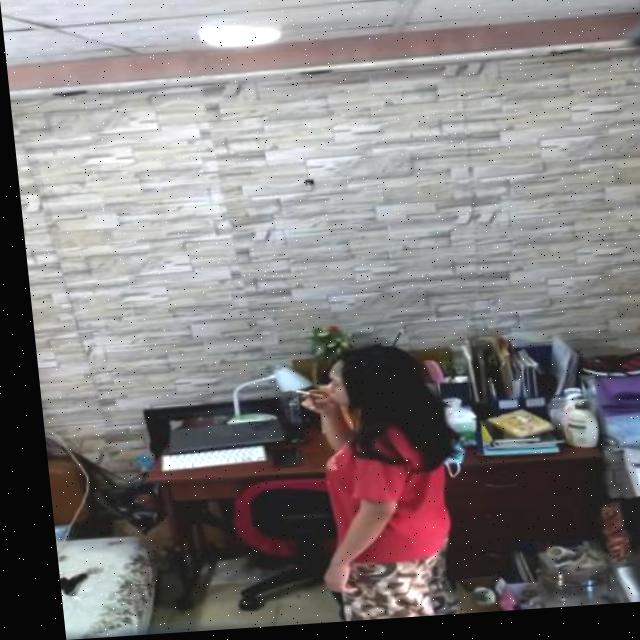cigarette: (283, 392, 316, 404)
